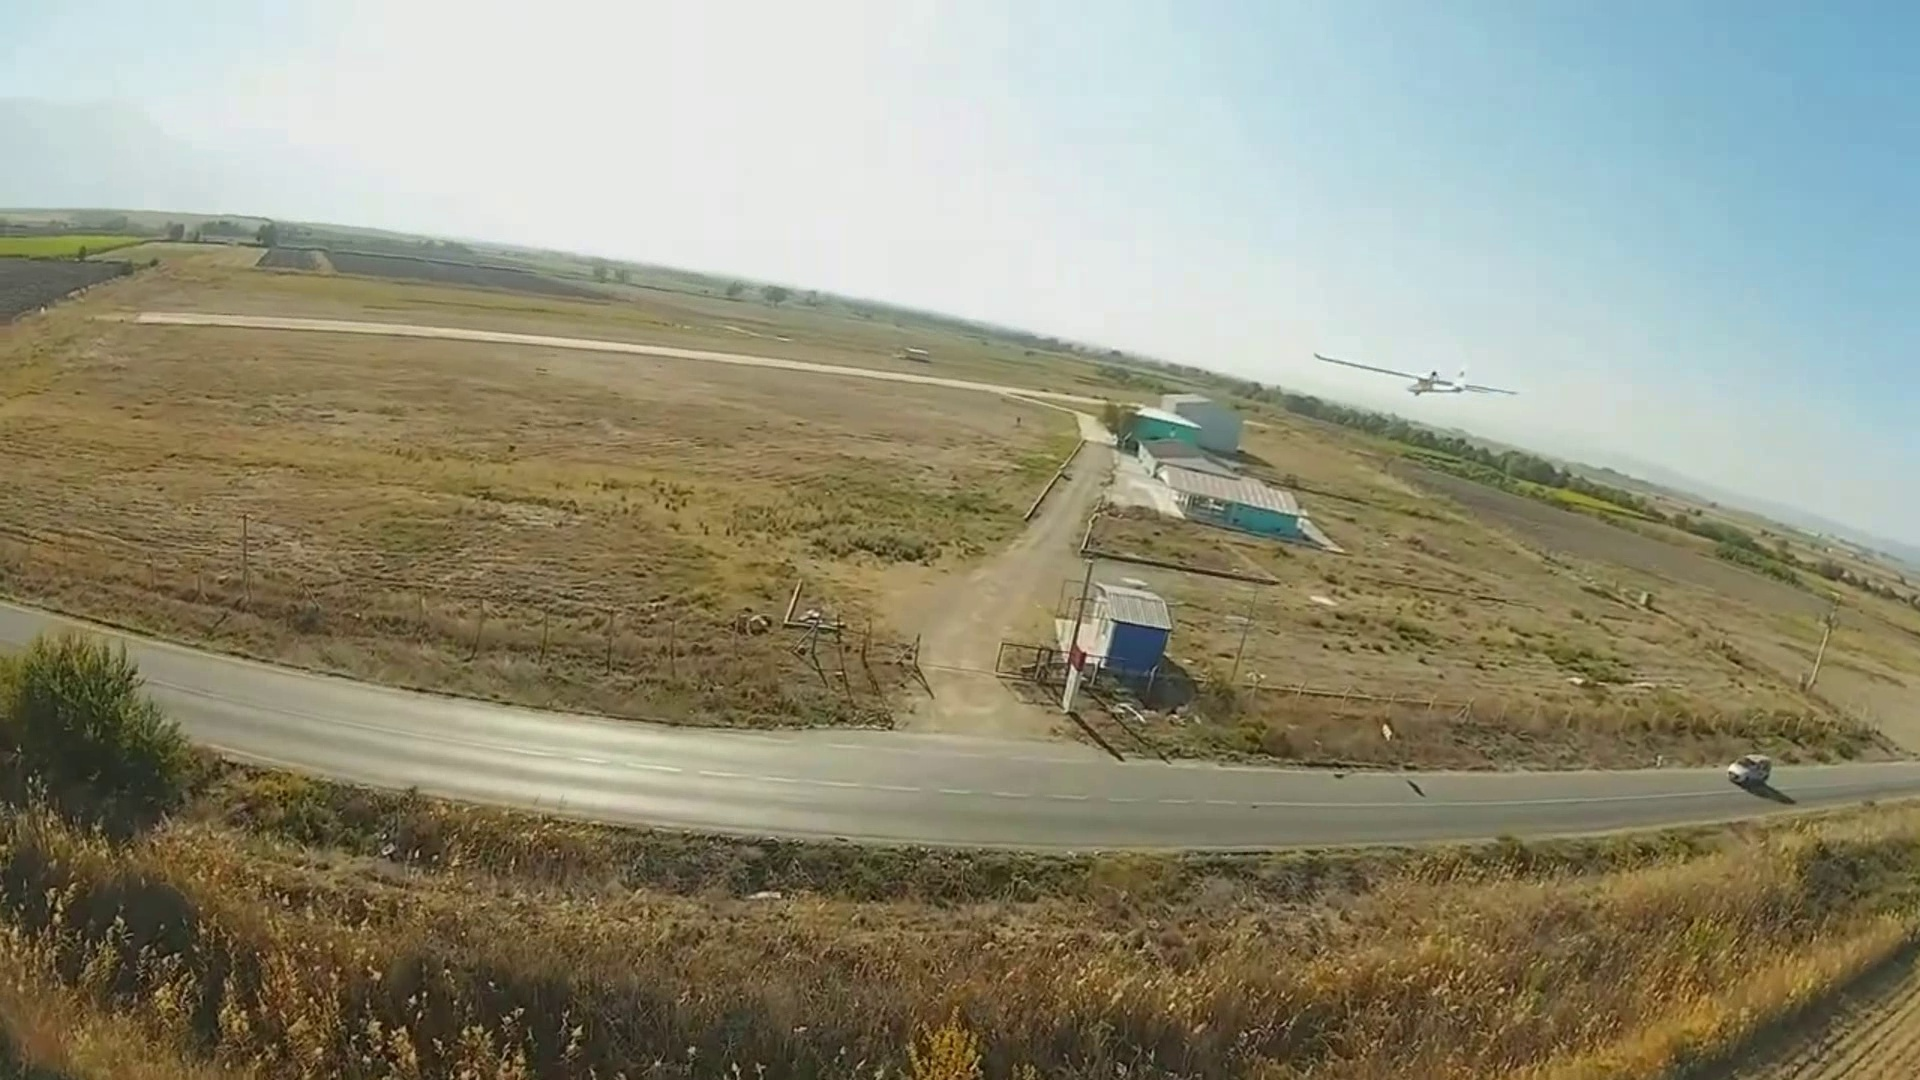airplane: (1308, 345, 1522, 399)
